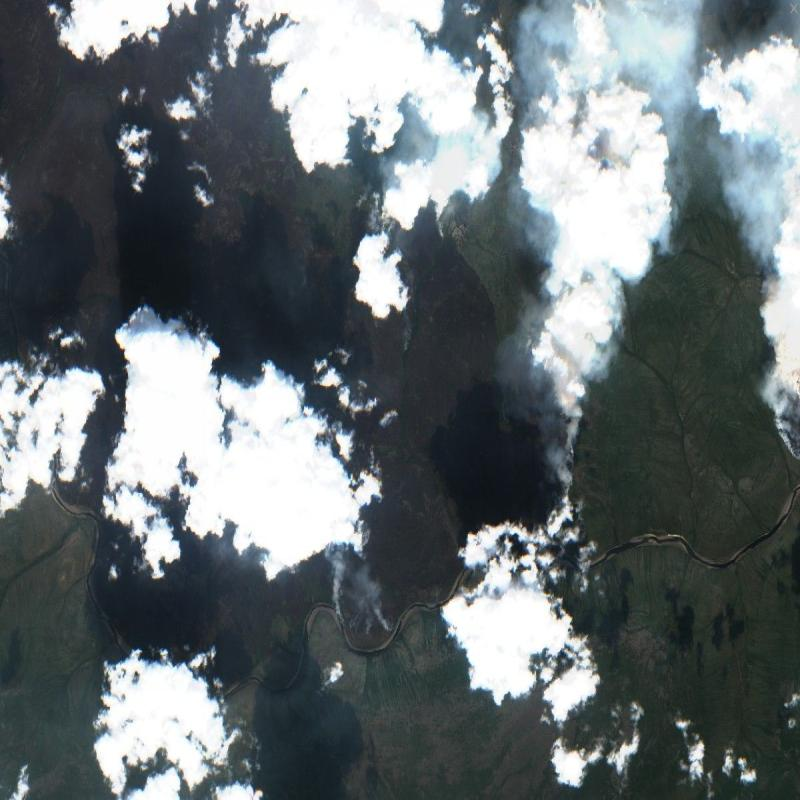fire: (516, 314, 600, 525), (352, 155, 444, 240), (758, 328, 800, 481), (322, 578, 403, 652)
